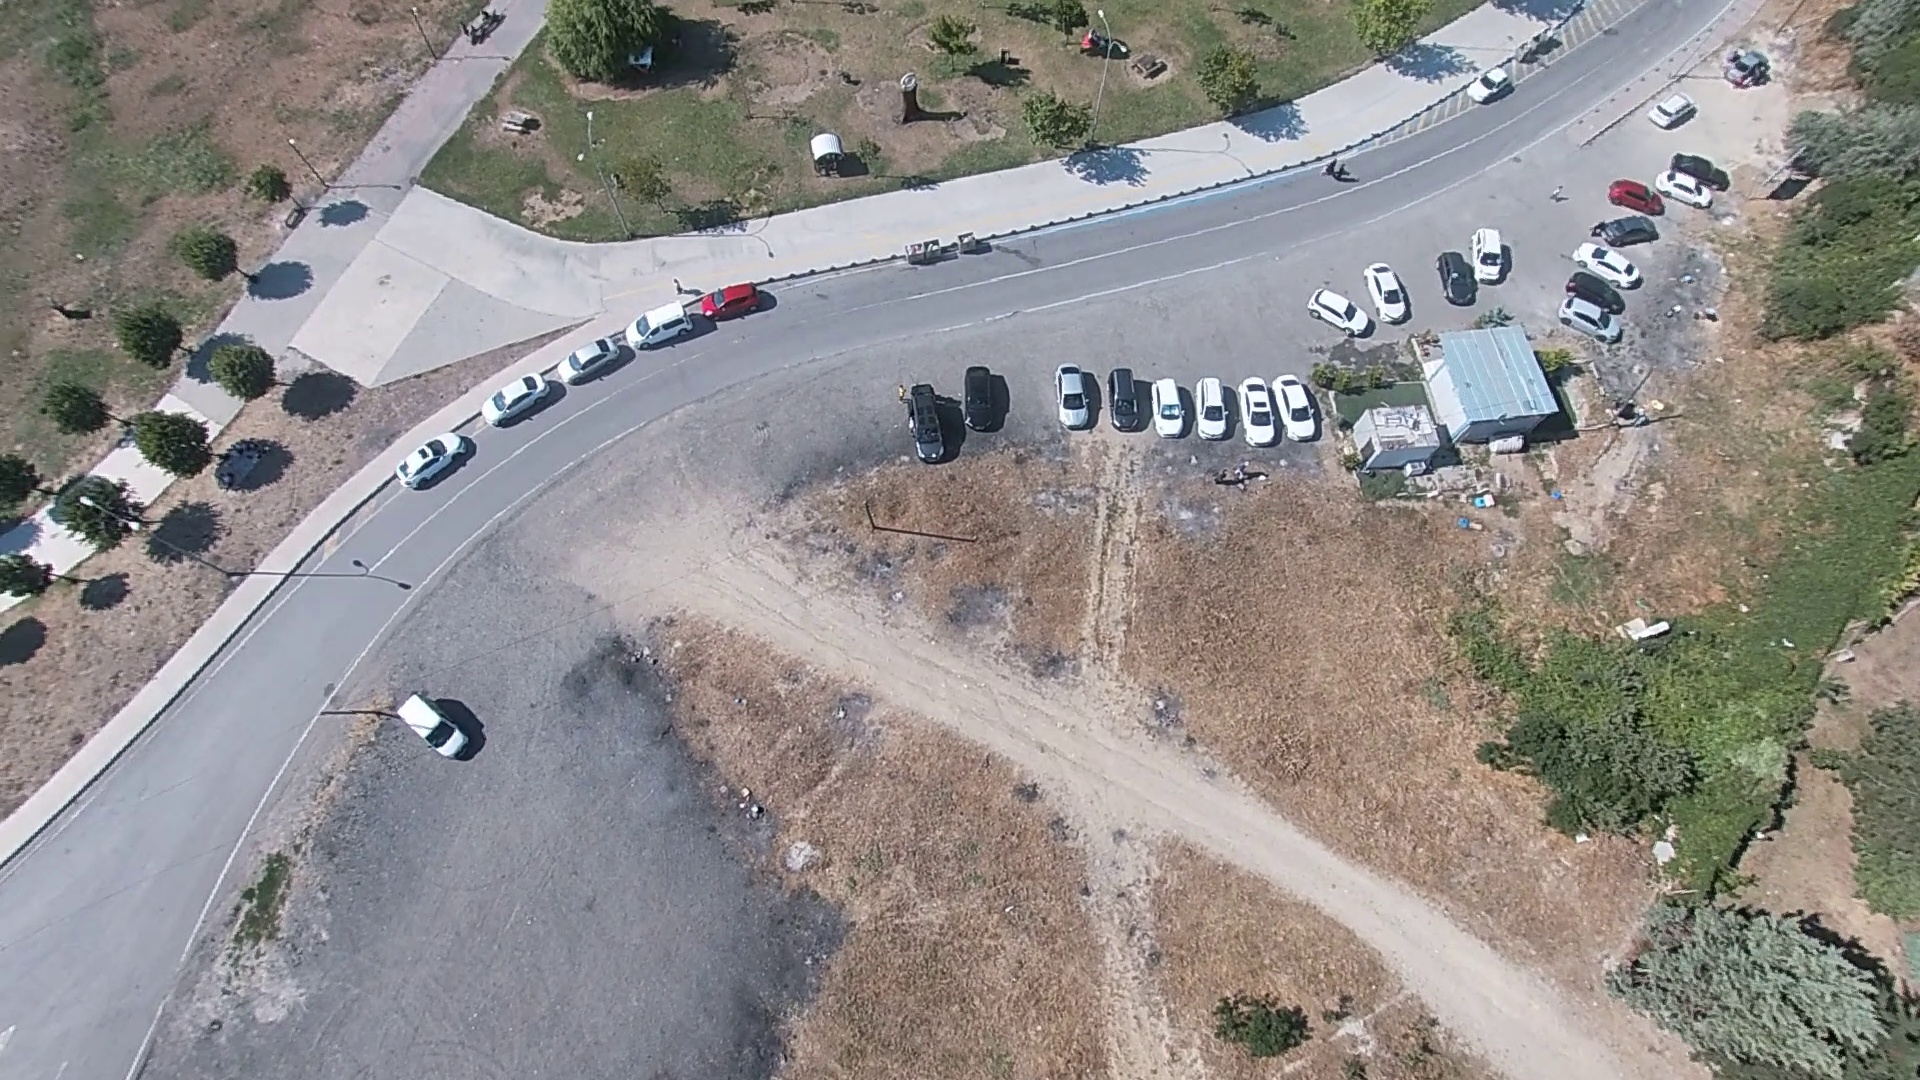arac: (397, 694, 477, 760), (483, 364, 564, 425), (396, 431, 473, 491), (1572, 231, 1651, 287), (1308, 282, 1375, 338), (1274, 367, 1323, 438), (1364, 255, 1415, 322), (1060, 361, 1102, 429), (1648, 86, 1702, 132), (1619, 616, 1669, 650)
